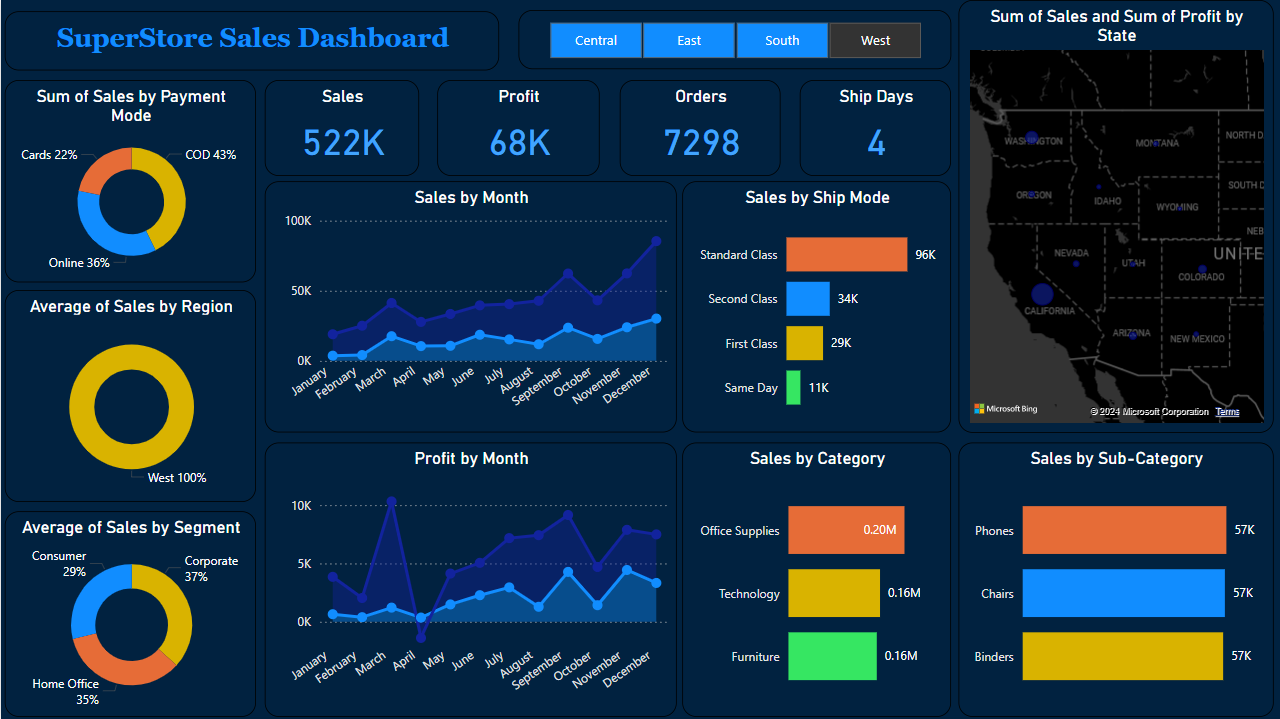

Layout of this report page (visuals, bound fields, positions):
{"tool":"powerbi","page":{"name":"Dashboard","canvas":[1280,720],"ordinal":0},"visuals":[{"type":"clusteredBarChart","title":"Sales by Category","fields":{"Category":["SuperStore_Sales_Dataset.Category"],"Y":["Sum(SuperStore_Sales_Dataset.Sales)"]},"box":[681.1,441.9,268.9,274.3],"z":0},{"type":"clusteredBarChart","title":"Sales by Sub-Category","fields":{"Category":["SuperStore_Sales_Dataset.Sub-Category"],"Y":["Sum(SuperStore_Sales_Dataset.Sales)"]},"box":[958.1,441.9,314.9,274.3],"z":1000},{"type":"clusteredBarChart","title":"Sales by Ship Mode","fields":{"Category":["SuperStore_Sales_Dataset.Ship Mode"],"Y":["Sum(SuperStore_Sales_Dataset.Sales)"]},"box":[681.1,181.1,268.9,251.4],"z":2000},{"type":"stackedAreaChart","title":"Sales by Month","fields":{"Y":["Sum(SuperStore_Sales_Dataset.Sales)"],"Category":["SuperStore_Sales_Dataset.Order Date.Variation.Date Hierarchy.Month","SuperStore_Sales_Dataset.Order Date.Variation.Date Hierarchy.Day"],"Series":["SuperStore_Sales_Dataset.Order Date.Variation.Date Hierarchy.Year"]},"box":[263.5,181.1,412.2,251.4],"z":3000},{"type":"stackedAreaChart","title":"Profit by Month","fields":{"Category":["SuperStore_Sales_Dataset.Order Date.Variation.Date Hierarchy.Month","SuperStore_Sales_Dataset.Order Date.Variation.Date Hierarchy.Day"],"Series":["SuperStore_Sales_Dataset.Order Date.Variation.Date Hierarchy.Year"],"Y":["Sum(SuperStore_Sales_Dataset.Profit)"]},"box":[263.5,441.9,412.2,274.3],"z":4000},{"type":"map","fields":{"Category":["SuperStore_Sales_Dataset.State"],"Size":["Sum(SuperStore_Sales_Dataset.Sales)"]},"box":[958.1,0,314.9,432.4],"z":5000},{"type":"textbox","box":[4.1,10.8,494.6,59.5],"z":6000},{"type":"donutChart","fields":{"Category":["SuperStore_Sales_Dataset.Segment"],"Y":["Avg(SuperStore_Sales_Dataset.Sales)"]},"box":[4.1,510.8,251.4,205.4],"z":7000},{"type":"donutChart","fields":{"Category":["SuperStore_Sales_Dataset.Payment Mode"],"Y":["Sum(SuperStore_Sales_Dataset.Sales)"]},"box":[4.1,79.7,251.4,202.7],"z":8000},{"type":"donutChart","fields":{"Y":["Avg(SuperStore_Sales_Dataset.Sales)"],"Category":["SuperStore_Sales_Dataset.Region"]},"box":[4.1,290.5,251.4,212.2],"z":9000},{"type":"card","title":"Sales","fields":{"Values":["Sum(SuperStore_Sales_Dataset.Sales)"]},"box":[263.5,79.7,154.1,95.9],"z":10000},{"type":"card","title":"Profit","fields":{"Values":["Sum(SuperStore_Sales_Dataset.Profit)"]},"box":[436.5,79.7,162.2,95.9],"z":11000},{"type":"card","title":"Orders","fields":{"Values":["Sum(SuperStore_Sales_Dataset.Quantity)"]},"box":[618.9,79.7,160.8,95.9],"z":12000},{"type":"card","title":"Ship Days","fields":{"Values":["Avg(SuperStore_Sales_Dataset.AvgDelivery)"]},"box":[798.6,79.7,151.4,95.9],"z":13000},{"type":"slicer","fields":{"Values":["SuperStore_Sales_Dataset.Region"]},"box":[517.4,10.5,432.6,59.3],"z":14000}]}

Visuals, with their boxes in screenshot pixels (x1, y1, x2, y2), scaled from the page's 1280x720 canvas onto the 1280x719 screenshot:
"Sales by Category" clusteredBarChart: 681,441,950,715
"Sales by Sub-Category" clusteredBarChart: 958,441,1273,715
"Sales by Ship Mode" clusteredBarChart: 681,181,950,432
"Sales by Month" stackedAreaChart: 264,181,676,432
"Profit by Month" stackedAreaChart: 264,441,676,715
map - SuperStore_Sales_Dataset.State x Sum(SuperStore_Sales_Dataset.Sales): 958,0,1273,432
textbox: 4,11,499,70
donutChart - SuperStore_Sales_Dataset.Segment x Avg(SuperStore_Sales_Dataset.Sales): 4,510,256,715
donutChart - SuperStore_Sales_Dataset.Payment Mode x Sum(SuperStore_Sales_Dataset.Sales): 4,80,256,282
donutChart - Avg(SuperStore_Sales_Dataset.Sales) x SuperStore_Sales_Dataset.Region: 4,290,256,502
"Sales" card: 264,80,418,175
"Profit" card: 436,80,599,175
"Orders" card: 619,80,780,175
"Ship Days" card: 799,80,950,175
slicer - SuperStore_Sales_Dataset.Region: 517,10,950,70
